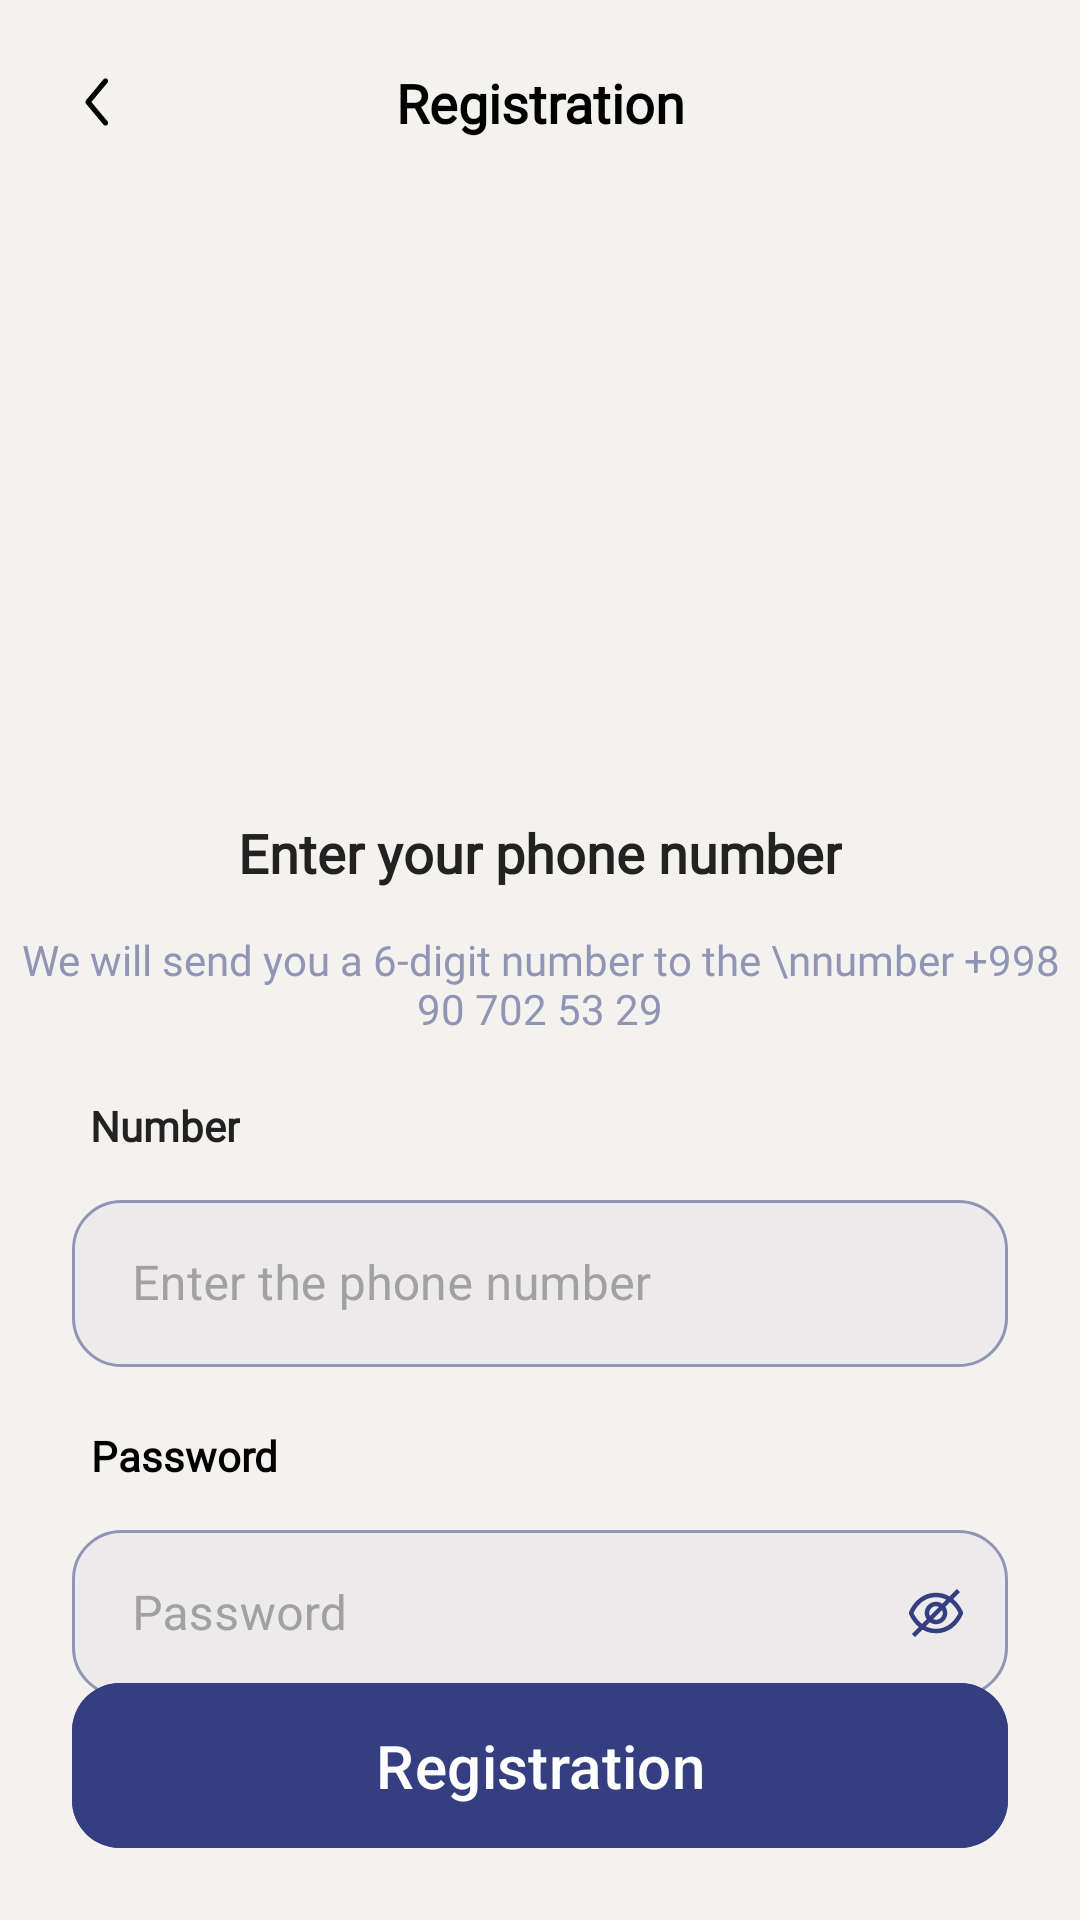

Icons on this 1080w x 1920h Android screen, each with its box as (x1, y1, x2, y2):
back: (85, 78, 108, 126)
